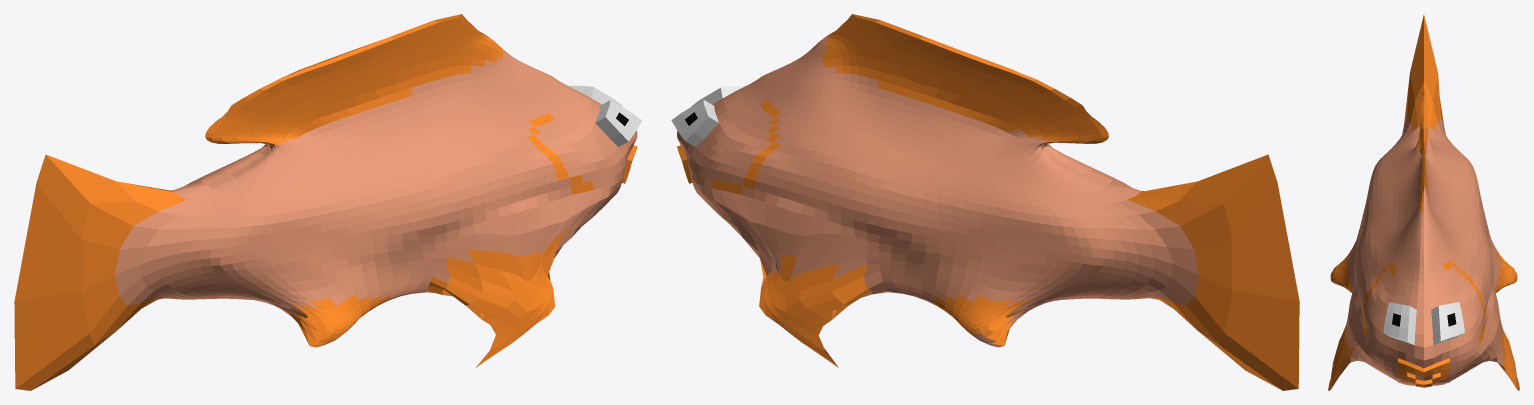
File: fish.fbx
The picture shows the model from 3 angles, left to right: view 1: azimuth 30°, elevation 25°; view 2: azimuth 150°, elevation 25°; view 3: azimuth 270°, elevation 25°; orthographic projection. The views are drawn at different scales.
Parts seen in each view (by area): view 1: Cube; view 2: Cube; view 3: Cube.
Part boxes in pixels (x1,y1,x2,y2): Cube: [14, 14, 642, 390]; Cube: [671, 14, 1299, 390]; Cube: [1328, 15, 1519, 390].
Size of the model in its own units: 1113 by 518 by 353.
